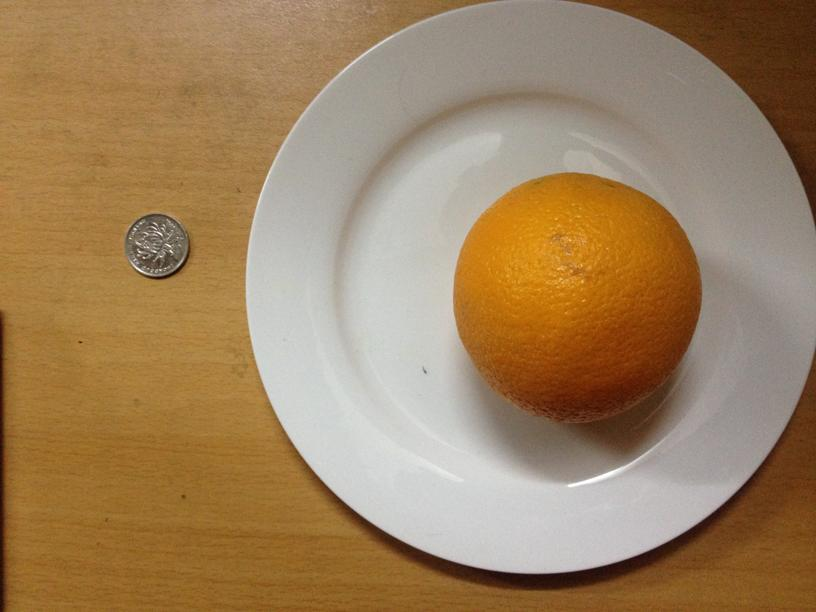coin: (127, 213, 190, 281)
orange: (459, 172, 699, 419)
